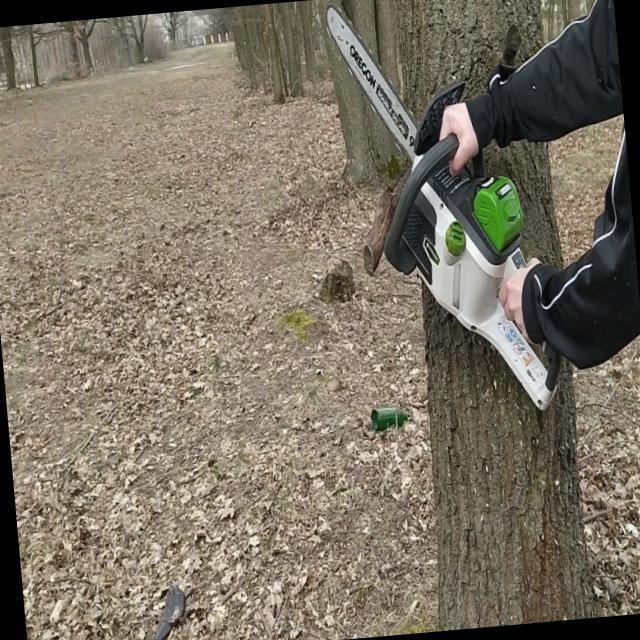Chainsaw: (319, 0, 572, 432)
